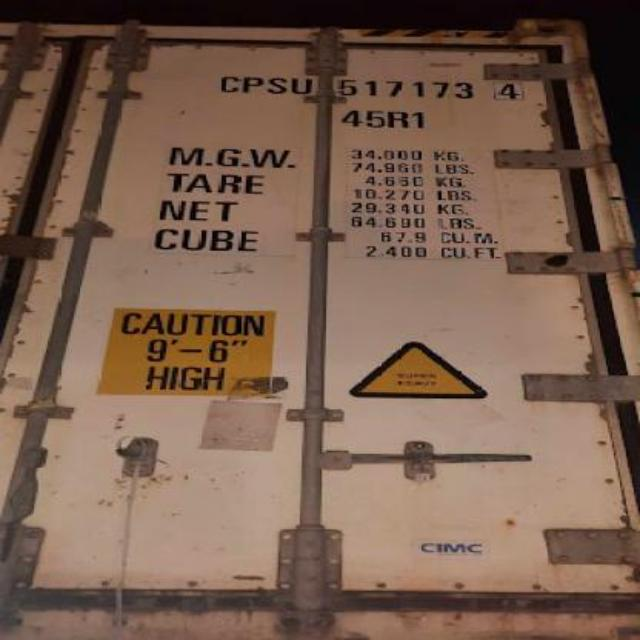1: (362, 77, 382, 97), (410, 78, 430, 98)
3: (456, 78, 476, 100)
4: (494, 82, 524, 98)
5: (336, 77, 362, 97)
7: (432, 78, 454, 100), (384, 79, 408, 97)
C: (216, 75, 242, 93)
P: (242, 75, 266, 93)
S: (266, 74, 290, 94)
U: (290, 75, 316, 95)
